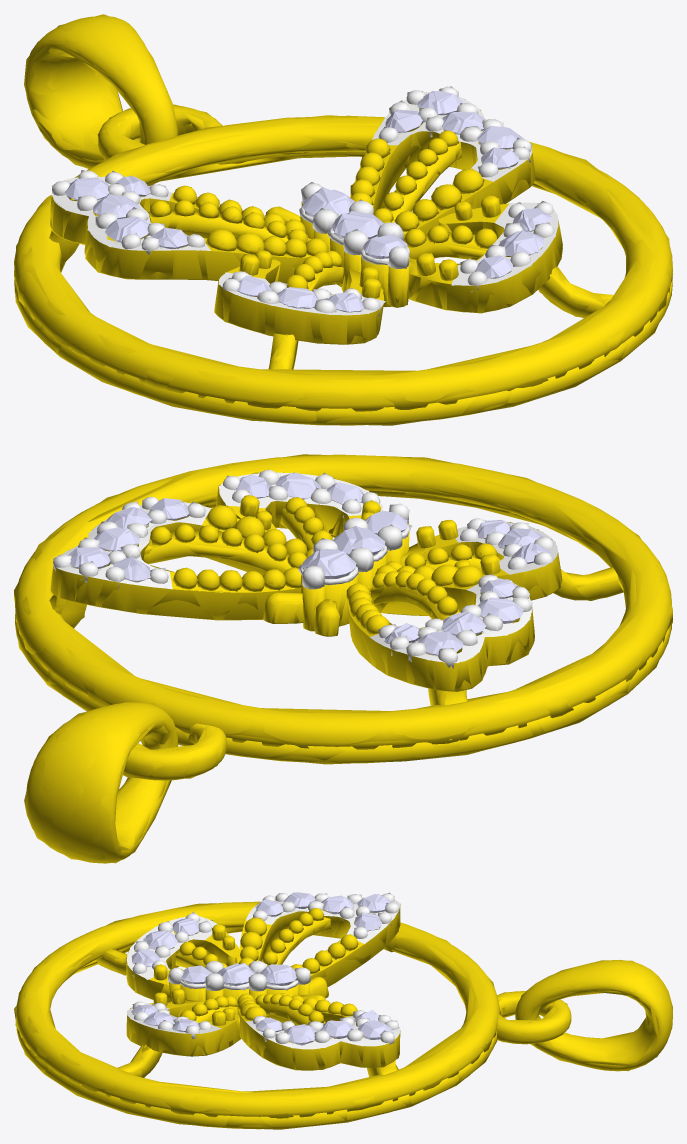
File: DCP-D000710777.glb
3 renders of one model, top to bottom at view 1: azimuth 30°, elevation 25°; view 2: azimuth 150°, elevation 25°; view 3: azimuth 270°, elevation 25°, orthographic. The views are drawn at different scales.
Parts seen in each view (by area): view 1: highPolyMesh, lowPolyMesh; view 2: highPolyMesh, lowPolyMesh; view 3: highPolyMesh, lowPolyMesh.
Boxes of the visible parts, bbox=[...] form: highPolyMesh: bbox=[14, 16, 672, 425]; lowPolyMesh: bbox=[14, 14, 671, 425]; highPolyMesh: bbox=[15, 454, 671, 863]; lowPolyMesh: bbox=[14, 454, 672, 863]; highPolyMesh: bbox=[16, 892, 672, 1129]; lowPolyMesh: bbox=[14, 892, 672, 1129].
Bounding box in the file's own units: 0.0186 × 0.00453 × 0.0252.
